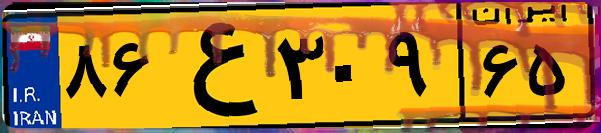0: (330, 28, 385, 110)
3: (270, 28, 330, 110)
5: (525, 38, 570, 115)
6: (475, 38, 525, 113), (110, 28, 158, 98)
8: (57, 26, 110, 100)
9: (385, 28, 445, 110)
ع: (158, 12, 270, 120)
